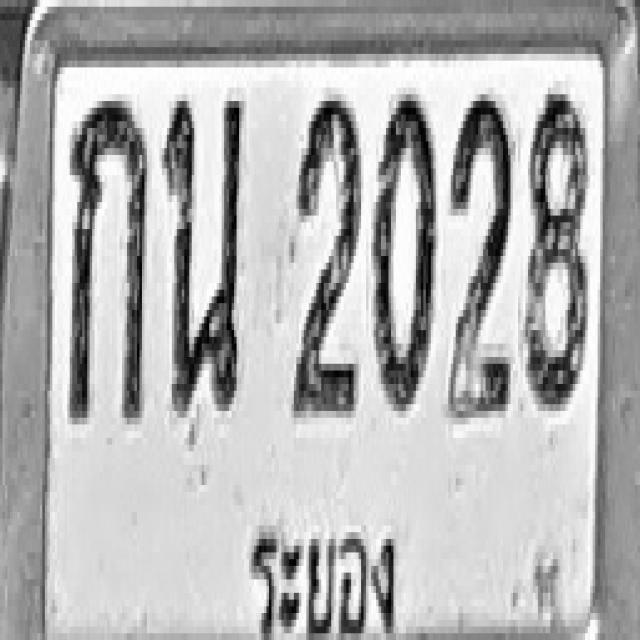0: (372, 84, 435, 408)
10GorGai: (67, 91, 147, 421)
2: (292, 88, 360, 411), (447, 84, 512, 414)
34NorNu: (163, 88, 243, 418)
8: (524, 84, 587, 408)
Rayong: (240, 508, 403, 640)
